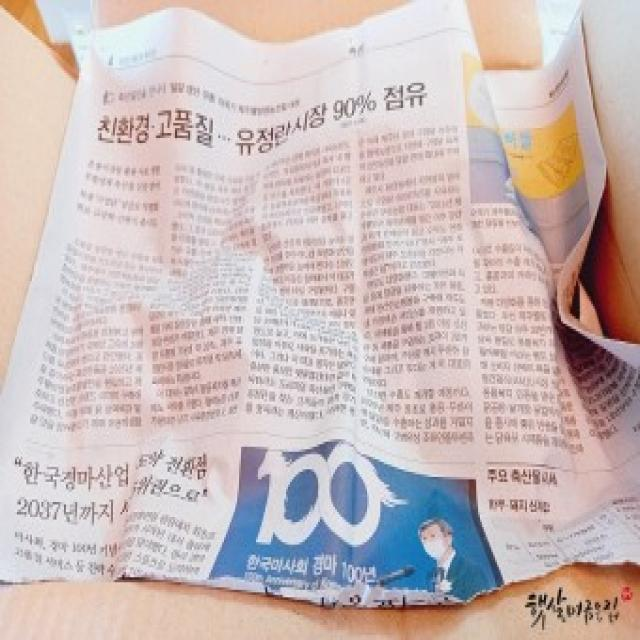reuseable_paper: (10, 19, 640, 561)
